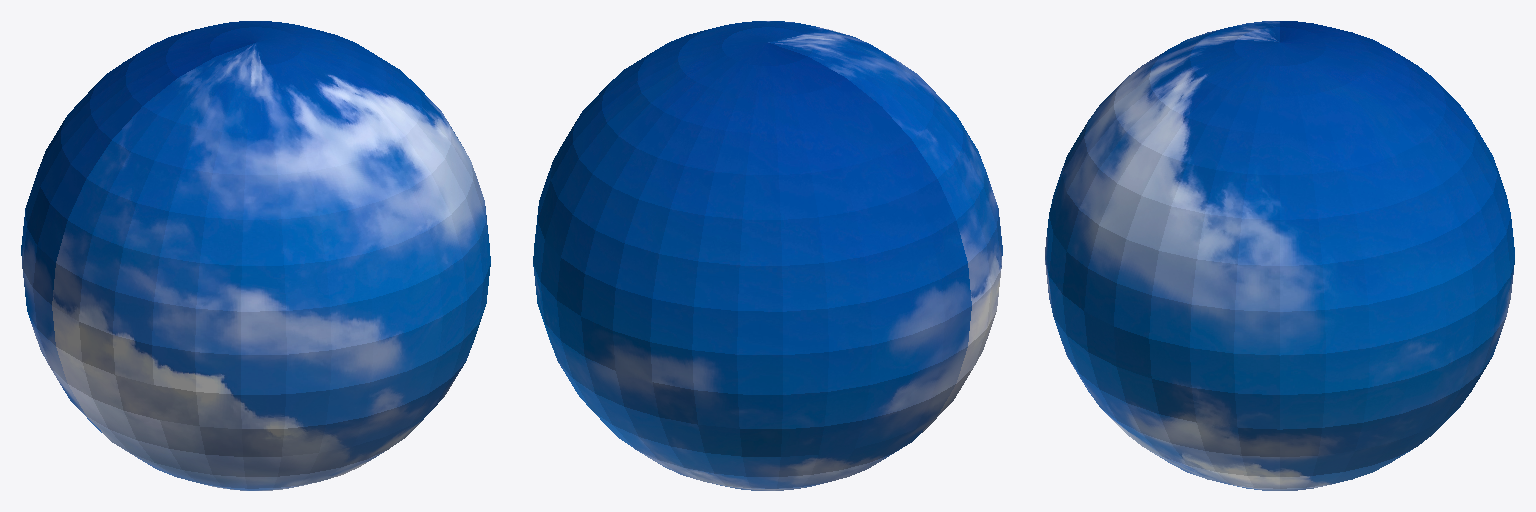
The picture shows the model from 3 angles: view 1: azimuth 30°, elevation 25°; view 2: azimuth 150°, elevation 25°; view 3: azimuth 270°, elevation 25°; orthographic projection.
Parts seen in each view (by area): view 1: Sphere; view 2: Sphere; view 3: Sphere.
Boxes of the visible parts, box(x1,y1,x2,y2) form: Sphere: box(21, 21, 490, 490); Sphere: box(533, 21, 1002, 490); Sphere: box(1045, 21, 1514, 490).
Bounding box in the file's own units: 2 × 2 × 2.
1 materials, 1 textured.